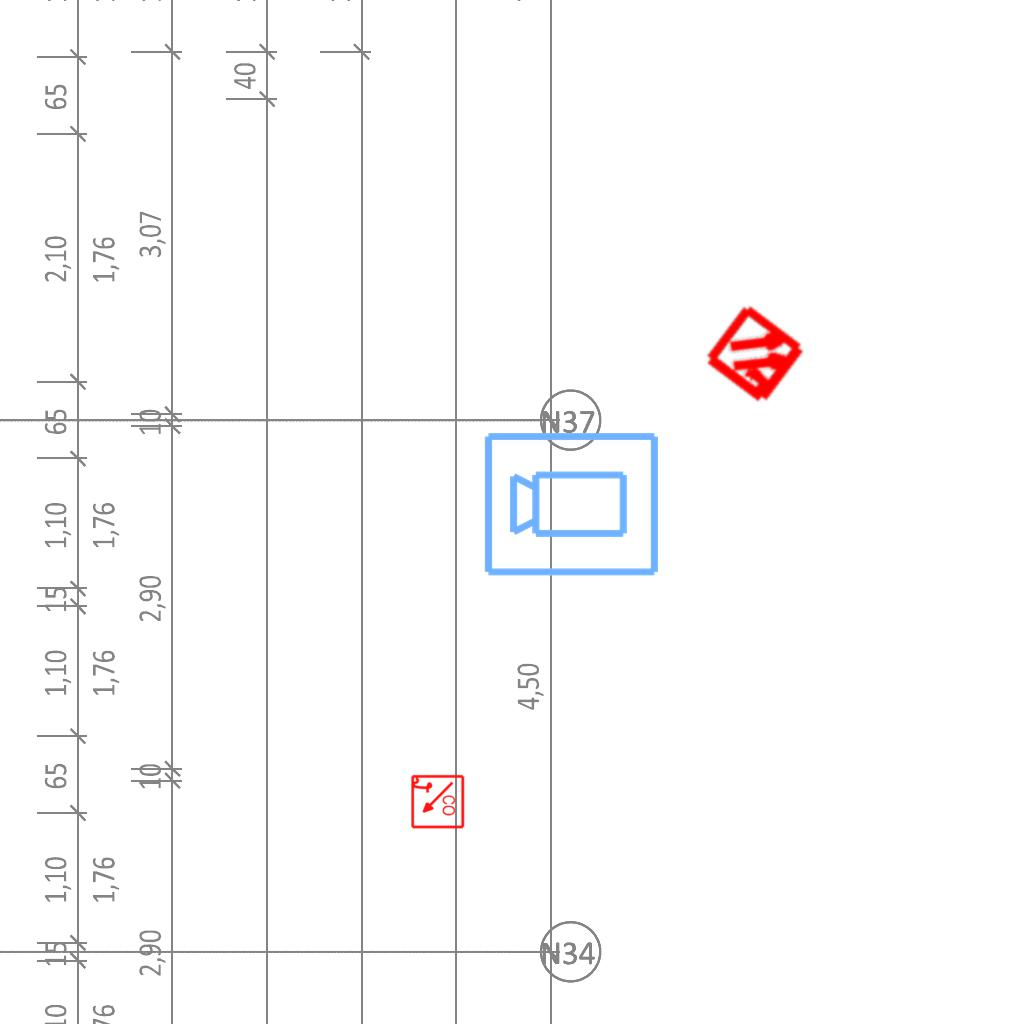KFO_Kamera_mit_Festobjektiv: (481, 426, 663, 580)
OT_Multisensormelder_(Kombination_RMO_WMD): (677, 276, 836, 435)
ROA_Rauchmelder_optisch_mit_Signalgeber_(Sockelsirene): (409, 774, 465, 830)
